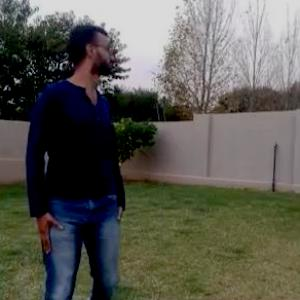follow: (23, 19, 128, 299)
